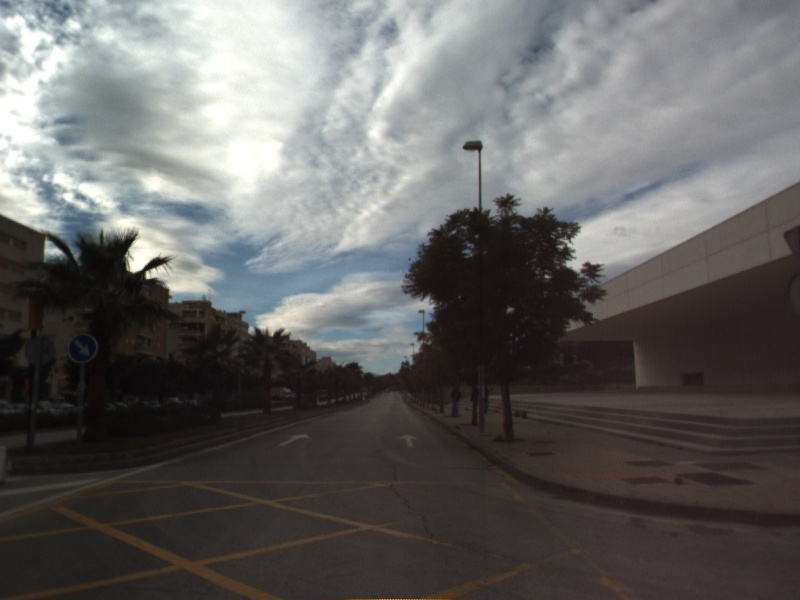STRAIGHT: (277, 431, 311, 448), (396, 432, 421, 449)
